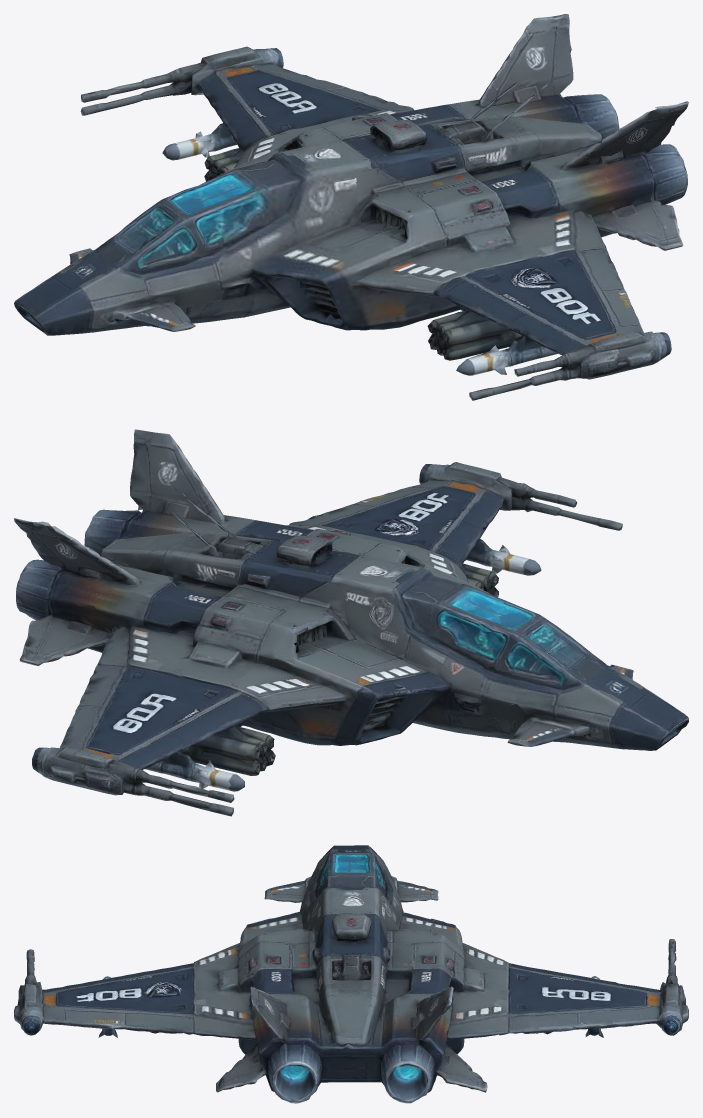
File: edf_fighter.glb
3 views of the same model, one above another, from view 1: azimuth 30°, elevation 25°; view 2: azimuth 150°, elevation 25°; view 3: azimuth 270°, elevation 25° (orthographic). The views are drawn at different scales.
Parts seen in each view (by area): view 1: model; view 2: model; view 3: model.
Part boxes in pixels (x1=…): model: x1=14, y1=14, x2=688, y2=400; model: x1=14, y1=429, x2=688, y2=816; model: x1=14, y1=845, x2=688, y2=1103.
Bounding box in the file's own units: 0.8692 × 0.2174 × 0.9997.
Materials: 1 (1 with a texture image).
